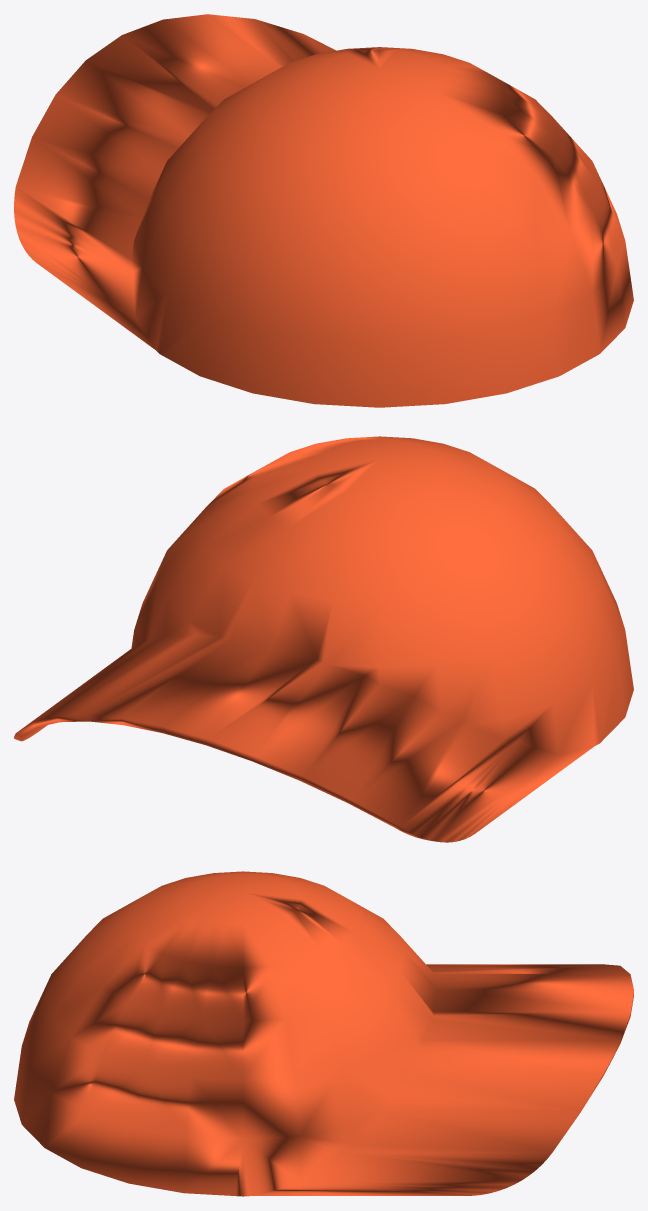
3 views of the same model, one above another, from view 1: azimuth 30°, elevation 25°; view 2: azimuth 150°, elevation 25°; view 3: azimuth 270°, elevation 25° (orthographic). The views are drawn at different scales.
Visible parts, largest first — view 1: mesh1_mesh1-geometry; view 2: mesh1_mesh1-geometry; view 3: mesh1_mesh1-geometry.
Boxes of the visible parts, x1=… form: mesh1_mesh1-geometry: x1=14, y1=14, x2=633, y2=407; mesh1_mesh1-geometry: x1=14, y1=436, x2=633, y2=842; mesh1_mesh1-geometry: x1=14, y1=871, x2=633, y2=1196.
Bounding box in the file's own units: 0.5698 × 0.2849 × 0.7709.
